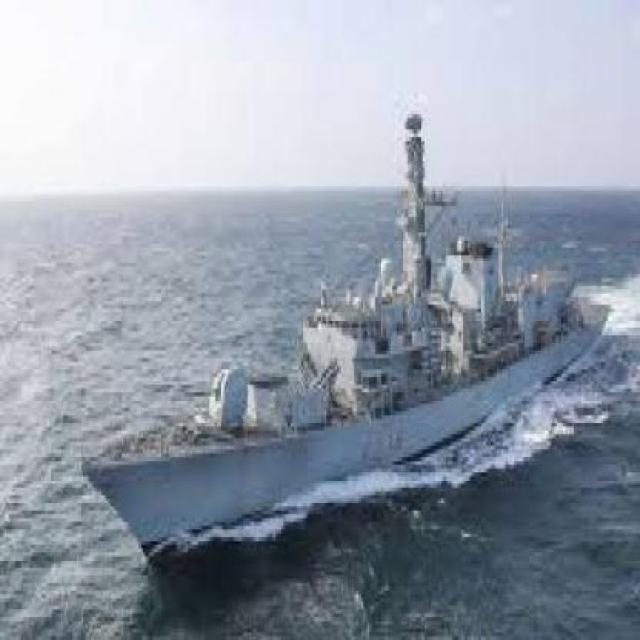warship2: (84, 89, 623, 592)
